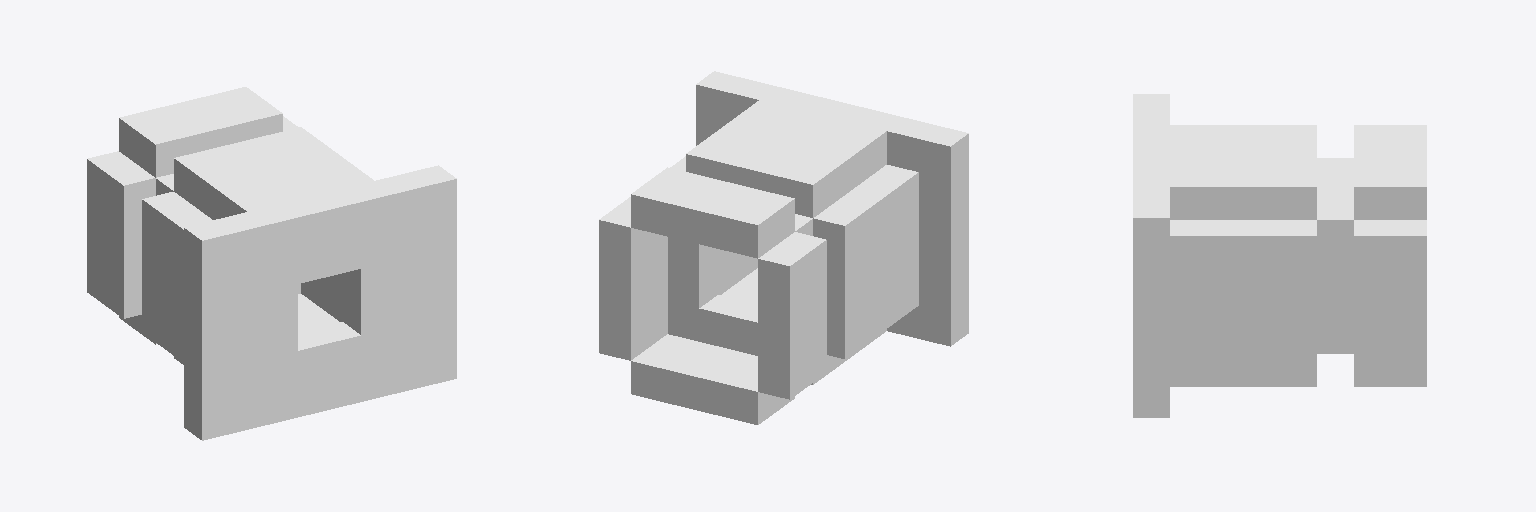
The model's file is Extra-8-UVintruder_Thruster.obj.
3 renders of one model, left to right at view 1: azimuth 30°, elevation 25°; view 2: azimuth 150°, elevation 25°; view 3: azimuth 270°, elevation 25°, orthographic.
Visible parts, largest first — view 1: UVintruder_Thruster; view 2: UVintruder_Thruster; view 3: UVintruder_Thruster.
Boxes of the visible parts, x1,y1,x2,y2 form: UVintruder_Thruster: [87, 87, 456, 440]; UVintruder_Thruster: [599, 71, 968, 424]; UVintruder_Thruster: [1133, 94, 1426, 417].
Bounding box in the file's own units: 0.8 × 0.6 × 0.8.